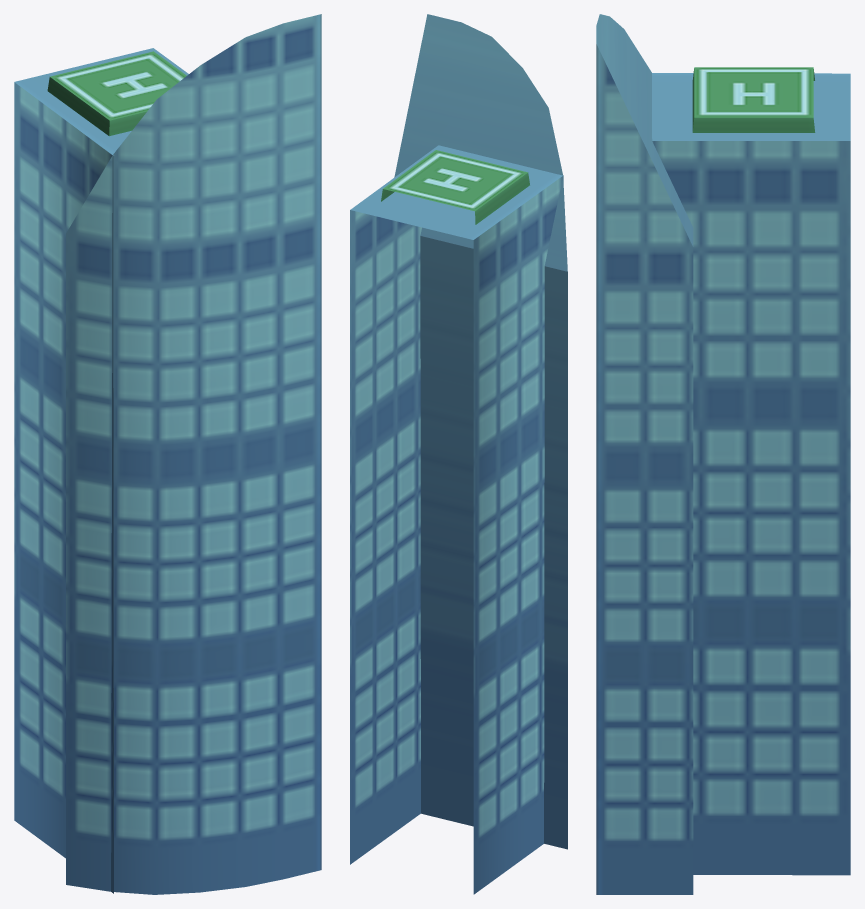
Rendered from MarineCity_Building_A_03.fbx.
3 views of the same model, side by side, from view 1: azimuth 30°, elevation 25°; view 2: azimuth 150°, elevation 25°; view 3: azimuth 270°, elevation 25° (orthographic). The views are drawn at different scales.
Visible parts, largest first — view 1: MarineCity_Building_A_03; view 2: MarineCity_Building_A_03; view 3: MarineCity_Building_A_03.
Part boxes in pixels (<box>): MarineCity_Building_A_03: <box>14,14,321,894</box>; MarineCity_Building_A_03: <box>350,14,567,894</box>; MarineCity_Building_A_03: <box>596,14,850,894</box>.
Bounding box in the file's own units: 3686 × 14561 × 3938.
